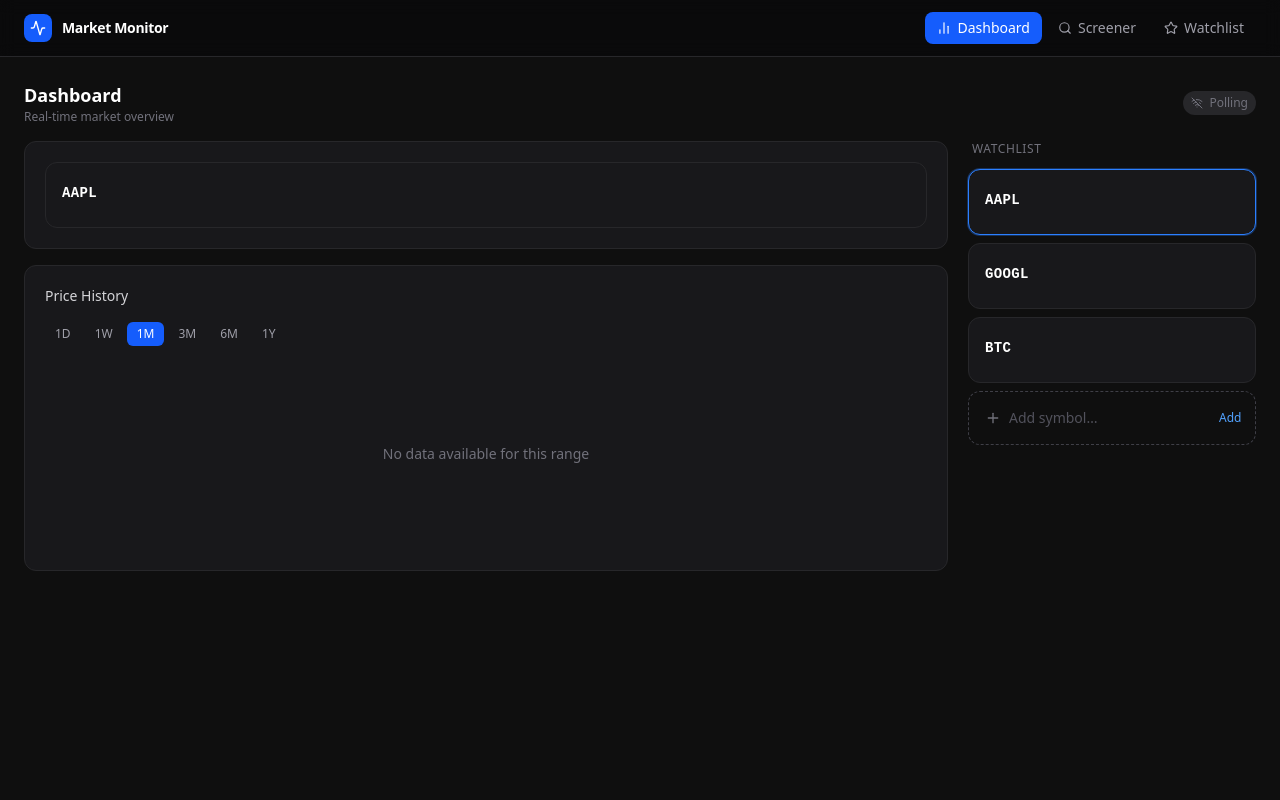
Test: App › switches to Screener tab when clicked
Click the button "Screener" at point(1097, 28), box top-left (1046, 12), bottom-right (1148, 44)
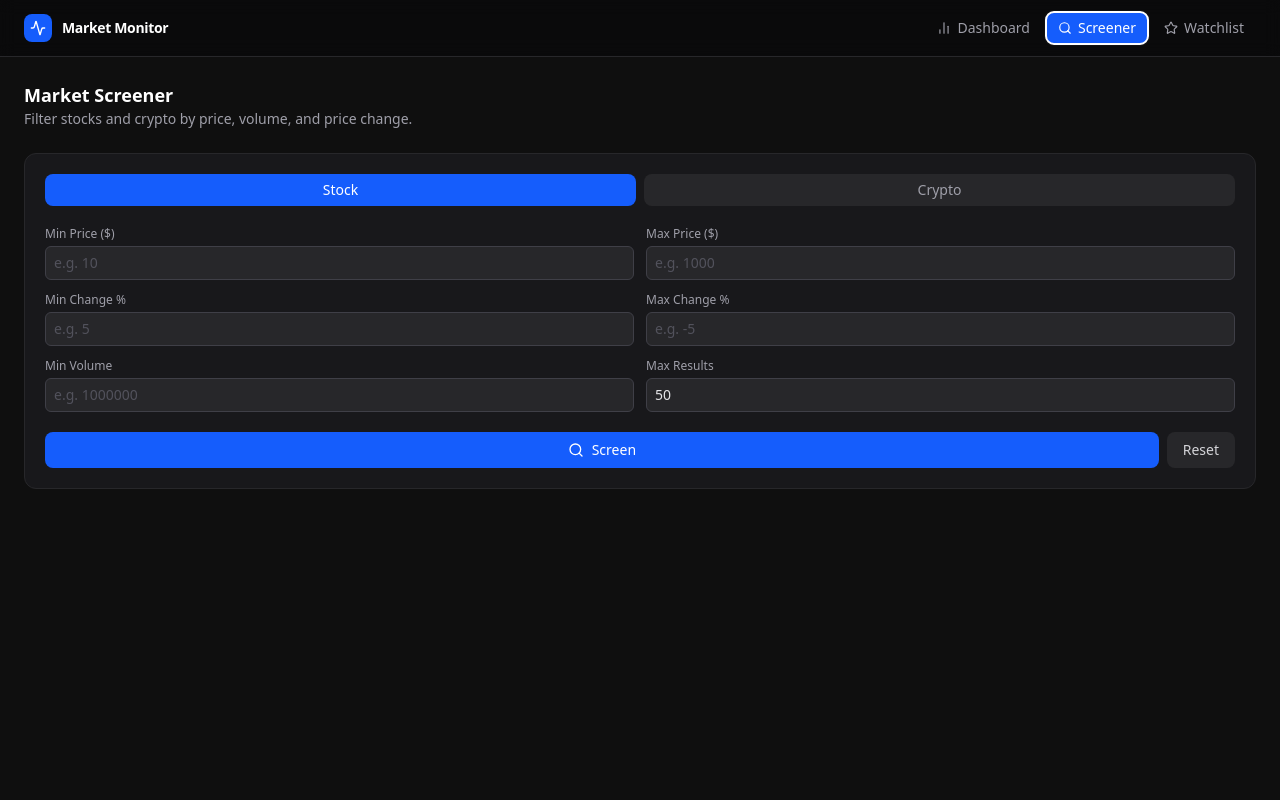
Expected: the heading "Market Screener" is shown, top-left (24, 83), bottom-right (173, 107)
